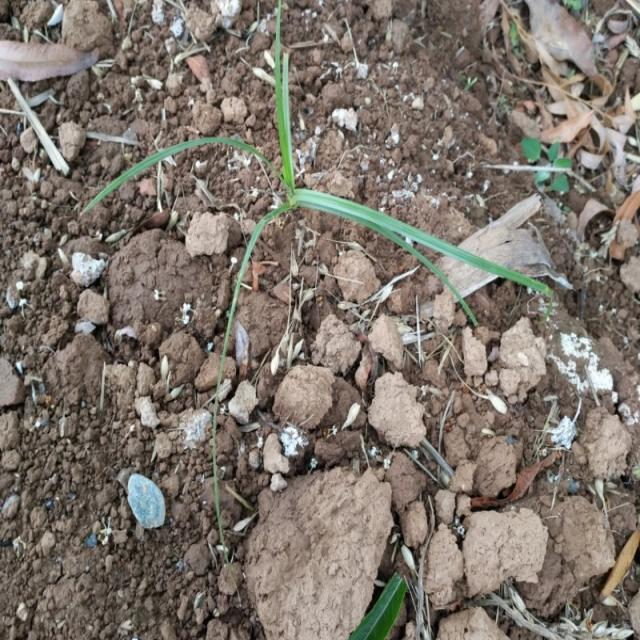sedge: (89, 61, 522, 396)
